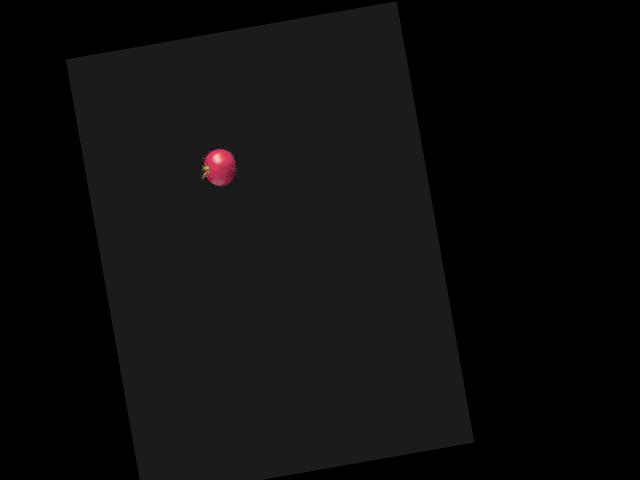tomato: (201, 147, 238, 188)
